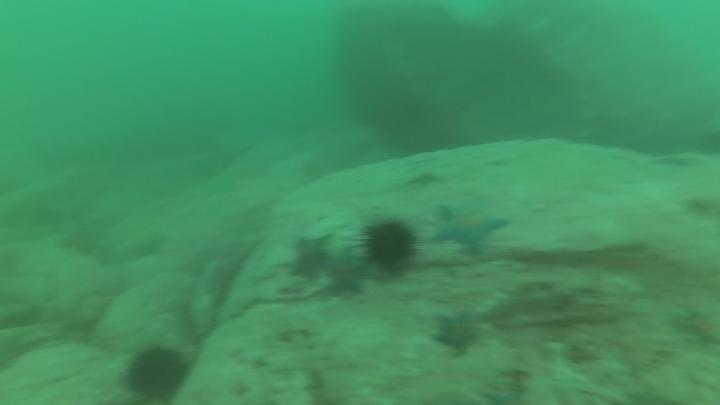echinus: (118, 343, 194, 404), (359, 218, 421, 279)
starfish: (428, 198, 512, 261), (429, 306, 490, 358), (321, 250, 374, 302), (289, 227, 332, 285)
